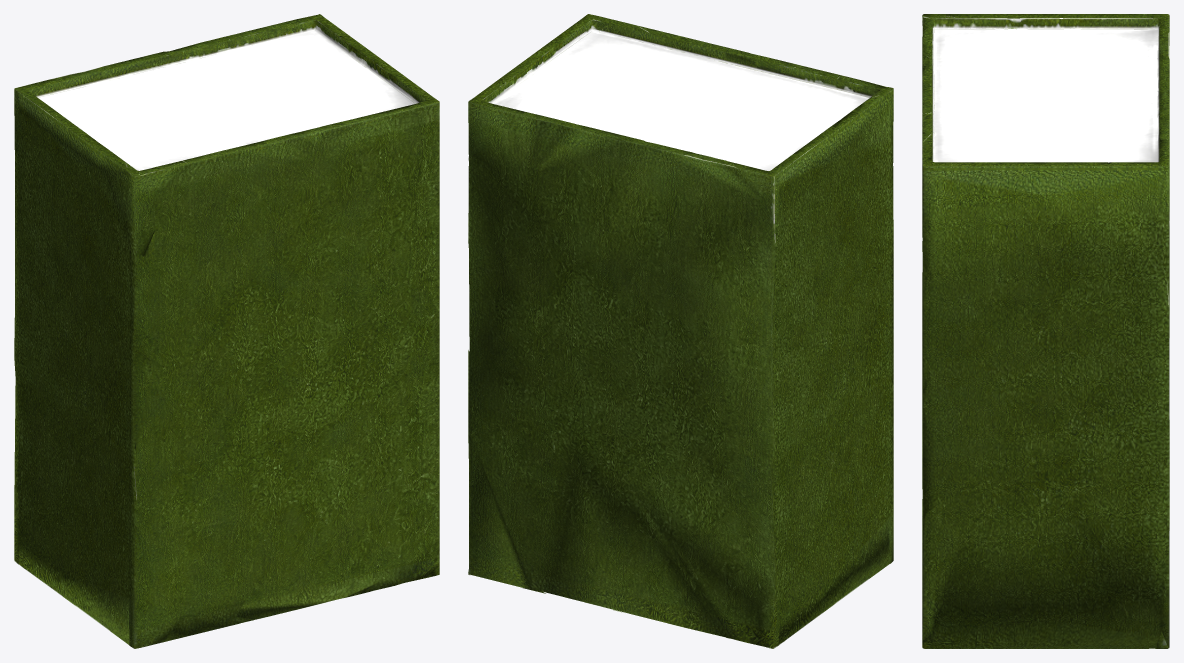
Rendered from Meshy_AI_Olive_Carpet_0610052911_texture.fbx.
The picture shows the model from 3 angles, left to right: view 1: azimuth 30°, elevation 25°; view 2: azimuth 150°, elevation 25°; view 3: azimuth 270°, elevation 25°; orthographic projection. The views are drawn at different scales.
Visible parts, largest first — view 1: Mesh_0; view 2: Mesh_0; view 3: Mesh_0.
Boxes of the visible parts, x1,y1,x2,y2 form: Mesh_0: [14, 14, 439, 648]; Mesh_0: [468, 14, 893, 648]; Mesh_0: [922, 14, 1169, 648].
Size of the model in its own units: 130 by 191 by 88.79.
1 material, 1 textured.
